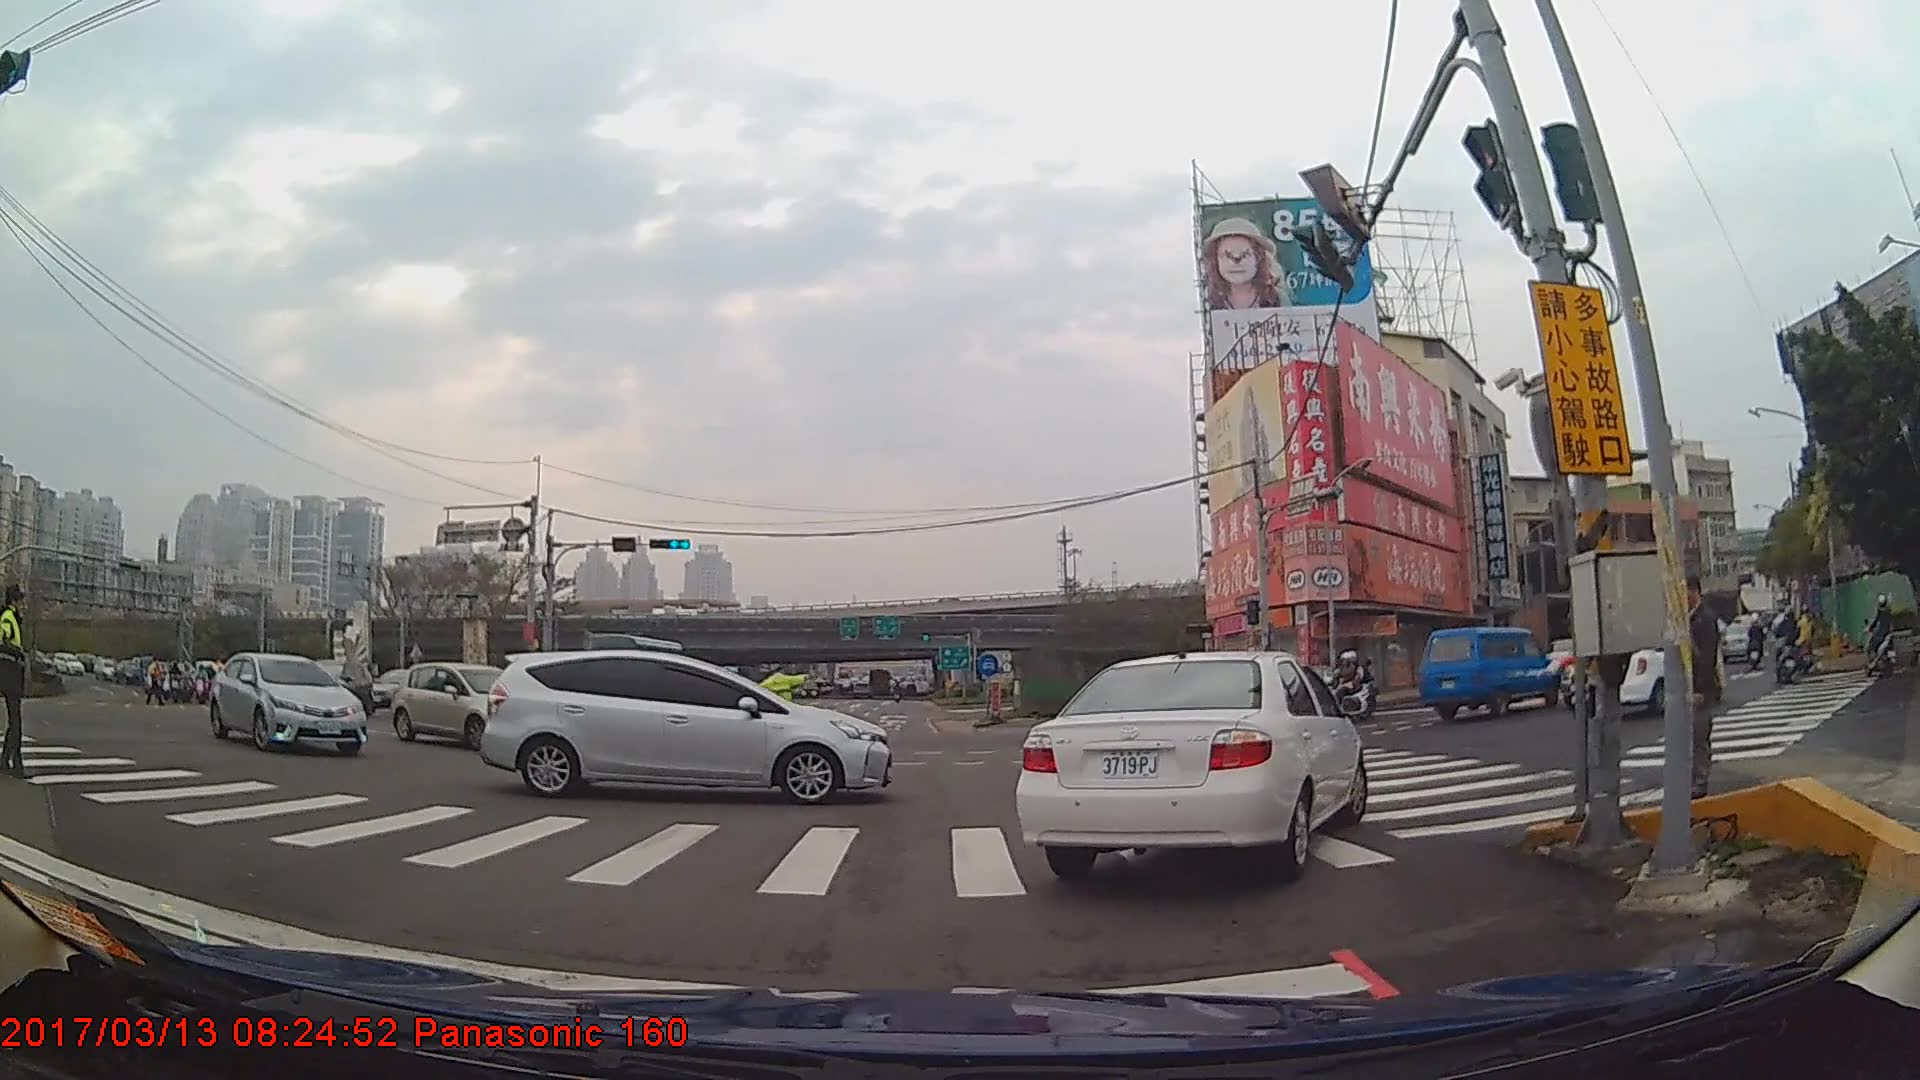pedestrian: (1650, 565, 1728, 812), (3, 579, 31, 784), (752, 655, 815, 741)
rider: (1316, 650, 1377, 723), (1862, 589, 1899, 681), (1774, 604, 1803, 683), (1794, 605, 1816, 680), (1746, 612, 1767, 673)
vehicle: (1017, 646, 1369, 880), (479, 648, 889, 807), (207, 652, 370, 758), (1414, 624, 1560, 717), (389, 661, 536, 746), (296, 656, 376, 719), (1717, 619, 1761, 666)
